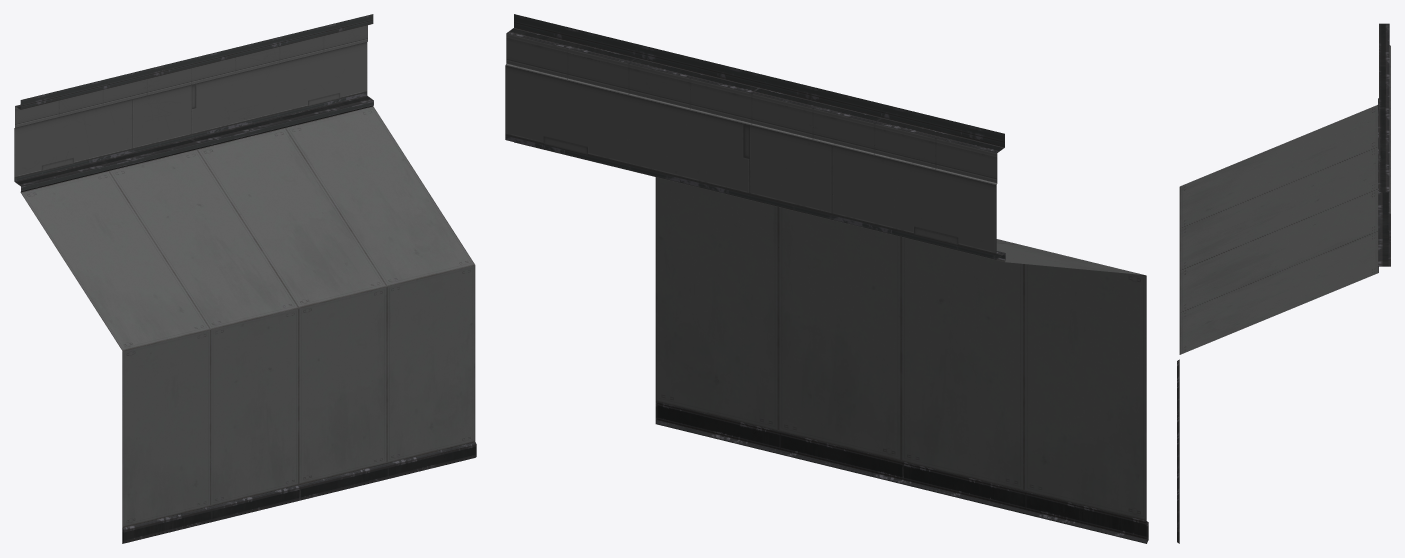
The model's file is Subway_wall_3B.fbx.
3 renders of one model, left to right at view 1: azimuth 30°, elevation 25°; view 2: azimuth 150°, elevation 25°; view 3: azimuth 270°, elevation 25°, orthographic. The views are drawn at different scales.
Visible parts, largest first — view 1: polySurface187; view 2: polySurface187; view 3: polySurface187.
Part boxes in pixels (x1,y1,x2,y2): polySurface187: (14, 14, 476, 543); polySurface187: (505, 14, 1148, 543); polySurface187: (1177, 23, 1390, 543).
Bounding box in the file's own units: 400 × 400 × 214.
